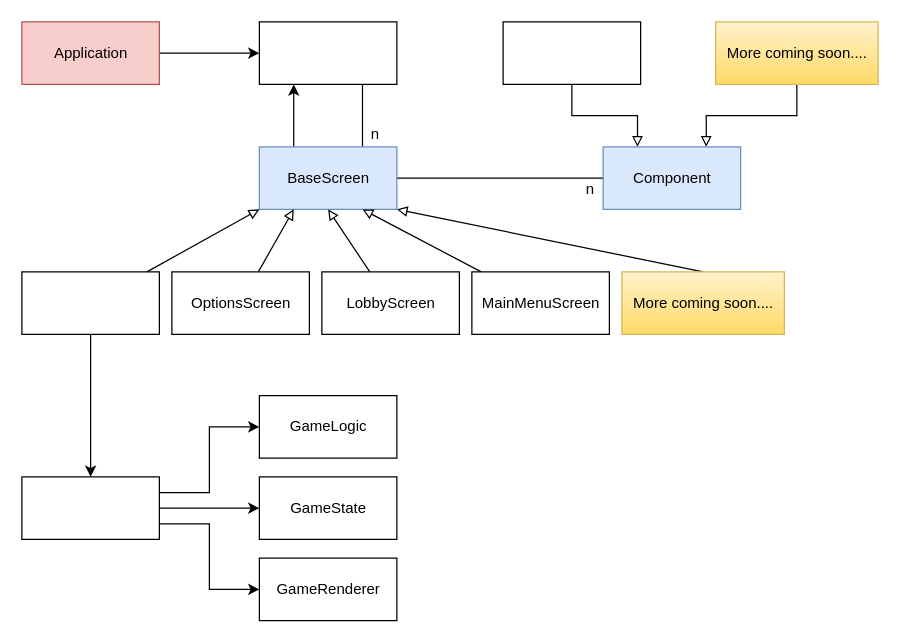
The diagram is 900 pixels wide and 643 high, and some of its shapes have lost their labels. The shapes that lost their labels are listed below. From the top down, each one's box as (x1, y1, x2, y2) in pixels, then its label:
(258, 21, 397, 84): ScreenManager
(502, 21, 641, 84): Button
(21, 271, 159, 334): GameScreen
(21, 476, 159, 539): Game
